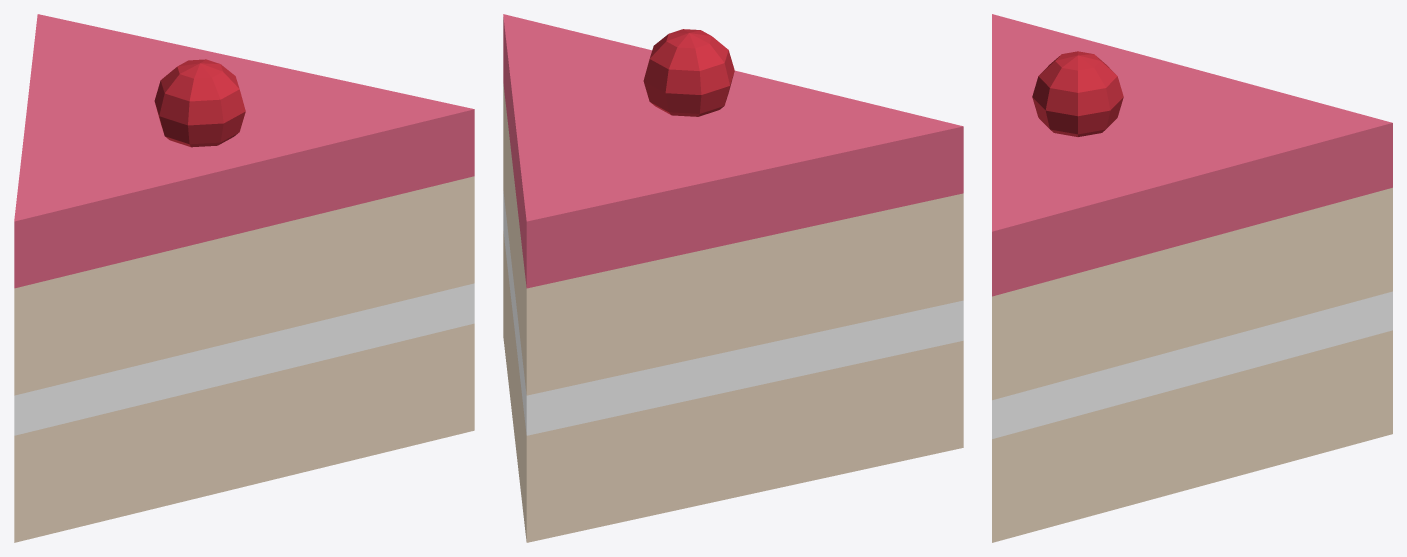
File: cake_slice.glb
The picture shows the model from 3 angles, left to right: view 1: azimuth 30°, elevation 25°; view 2: azimuth 150°, elevation 25°; view 3: azimuth 270°, elevation 25°; orthographic projection. The views are drawn at different scales.
Visible parts, largest first — view 1: cake_slice; view 2: cake_slice; view 3: cake_slice.
Boxes of the visible parts, x1,y1,x2,y2 form: cake_slice: [14, 14, 474, 542]; cake_slice: [503, 14, 963, 542]; cake_slice: [992, 14, 1392, 542].
Bounding box in the file's own units: 0.18 × 0.146 × 0.14.
